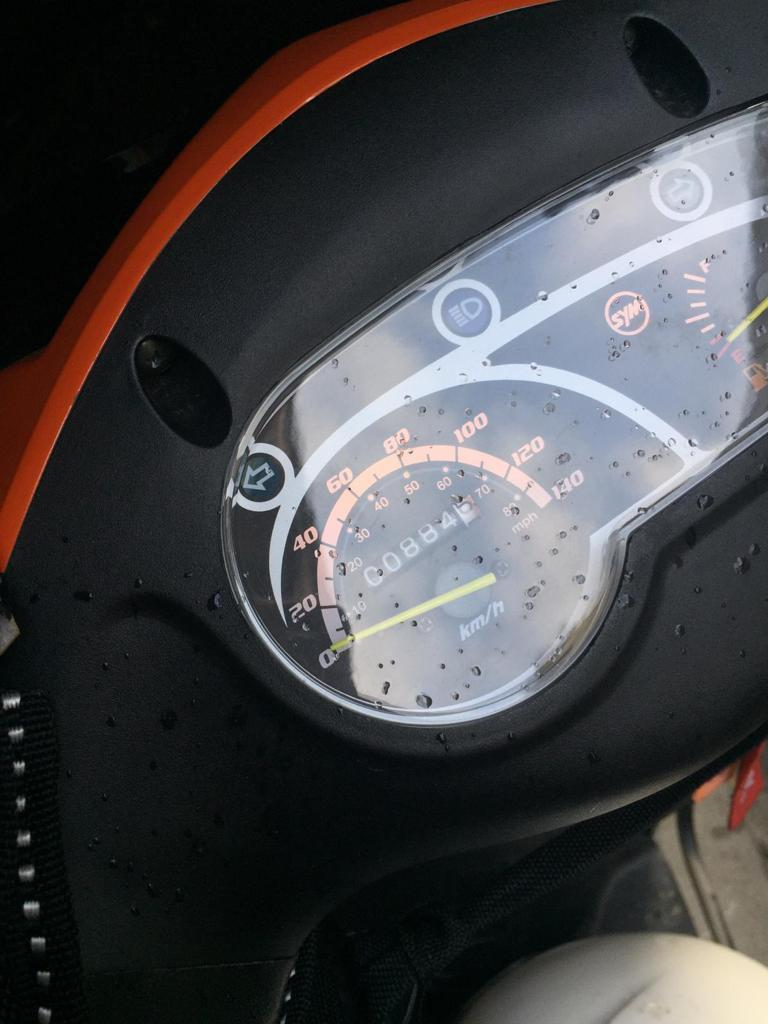0: (361, 564, 382, 586), (381, 550, 401, 573), (353, 556, 362, 567), (380, 496, 388, 507), (361, 527, 369, 538)
3: (354, 532, 363, 543)
4: (440, 509, 457, 531), (373, 500, 382, 511)
6: (454, 496, 473, 514)
8: (416, 521, 437, 544), (399, 536, 418, 557)
odometer: (351, 490, 485, 596)
